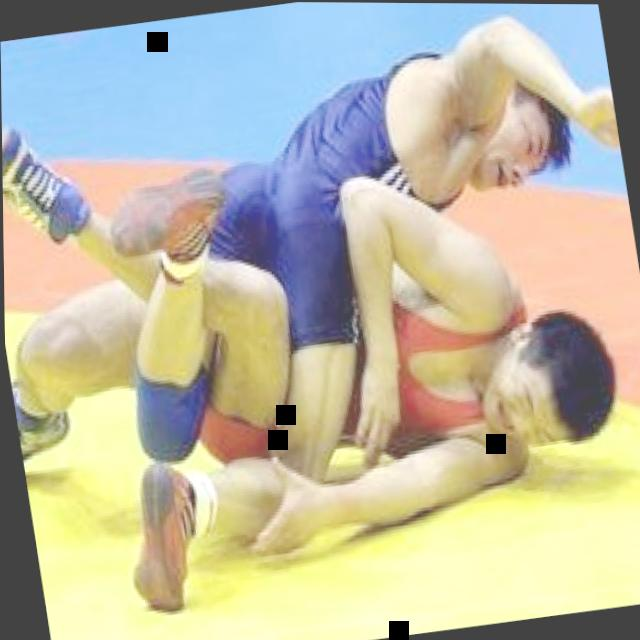Fall-Detected: (0, 0, 640, 609)
